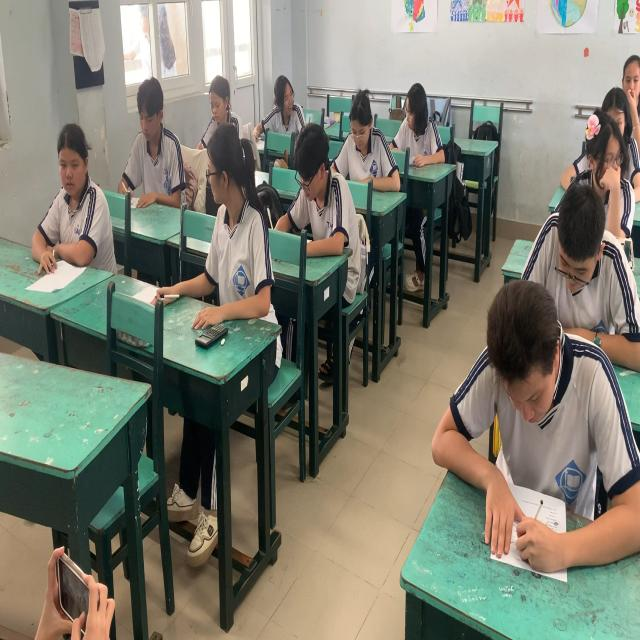cheating: (195, 126, 274, 338), (576, 102, 624, 200), (263, 54, 298, 130)
not_cheating: (451, 289, 623, 559), (525, 185, 621, 338), (45, 110, 119, 268), (278, 123, 348, 248), (131, 64, 181, 214), (335, 71, 389, 207), (390, 78, 440, 158), (197, 54, 240, 120), (616, 54, 640, 102)
